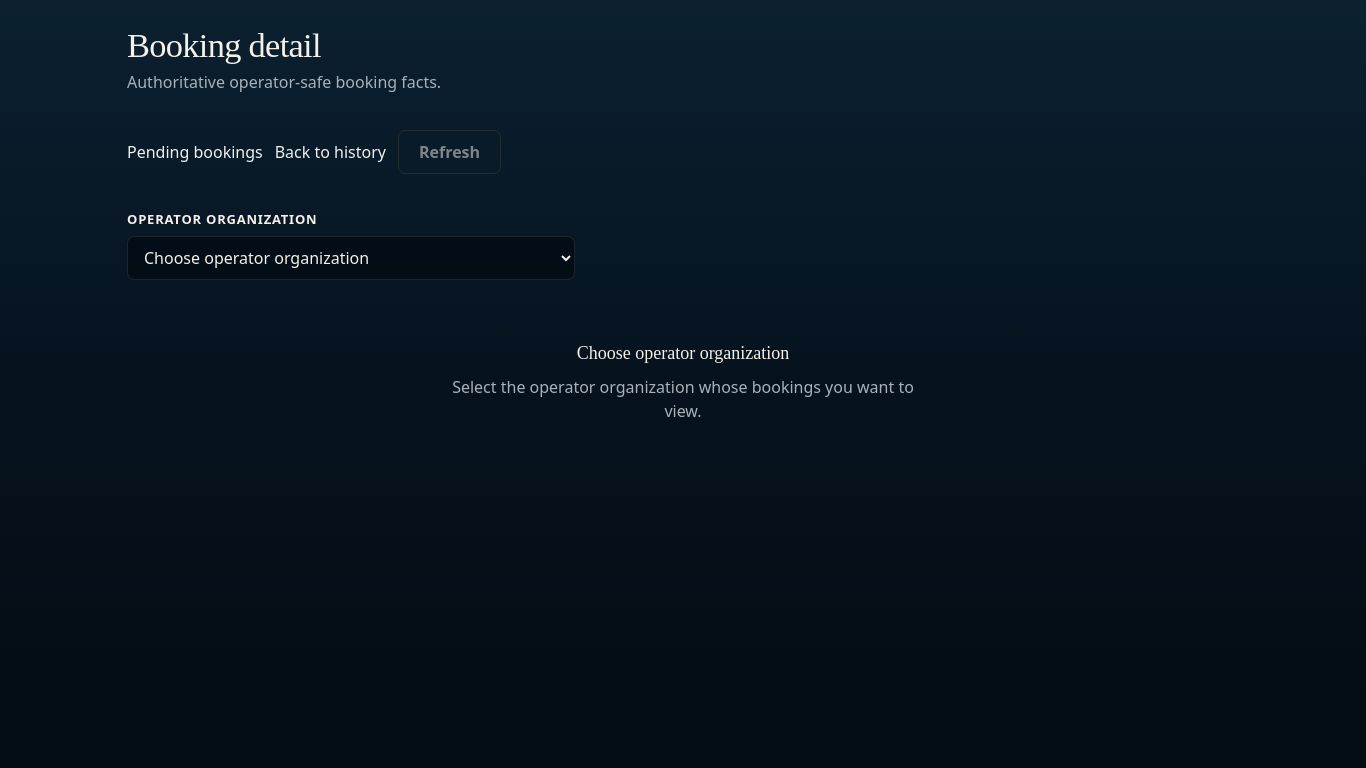
Scenario: OperatorBookingHistory › distinguishes old and new A detail epochs when abort is ignored
The width and height of the screenshot is (1366, 768).
Select "Operator organization 1 — OPERATOR_ADMIN" in the dropdown labelled "Operator organization" at (351, 258), box [127,236,575,280]
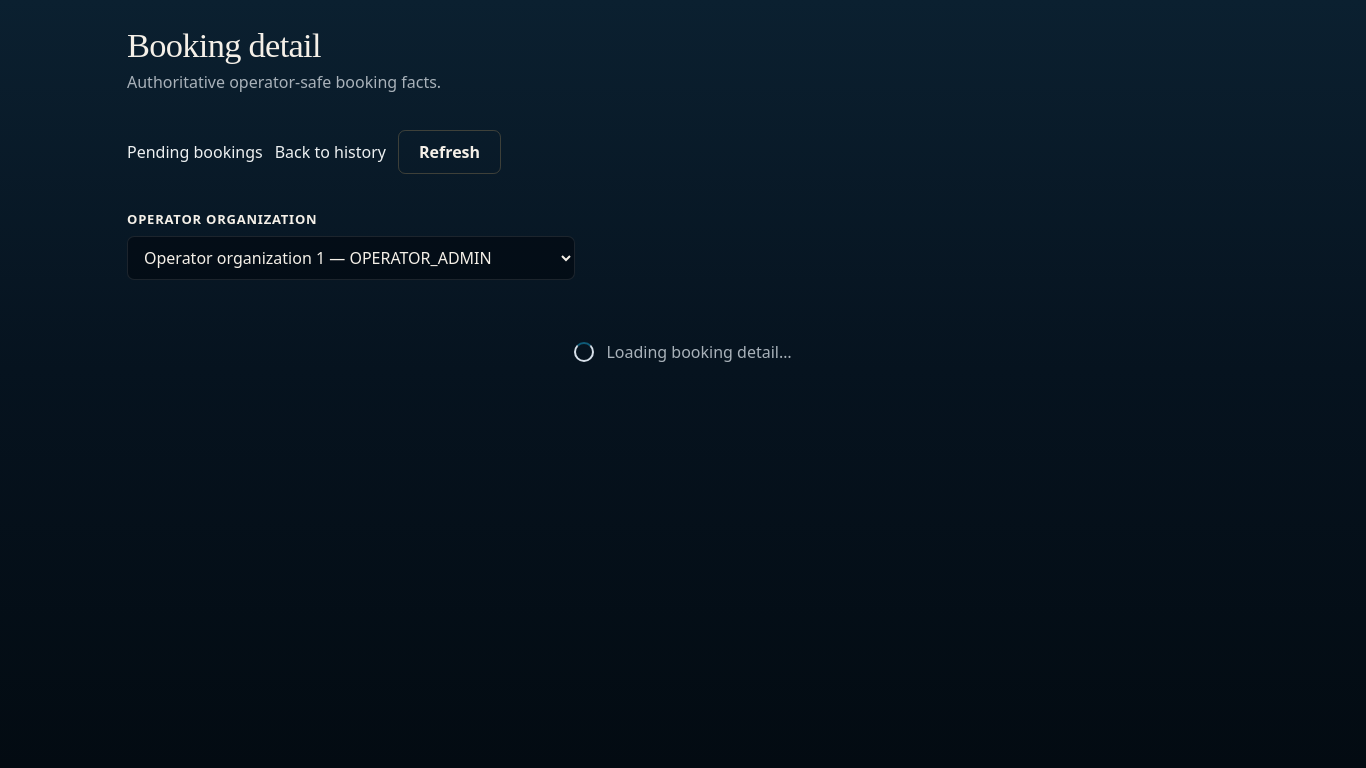
Select "Operator organization 2 — OPERATOR_FINANCE" in the dropdown labelled "Operator organization" at (351, 258), box [127,236,575,280]
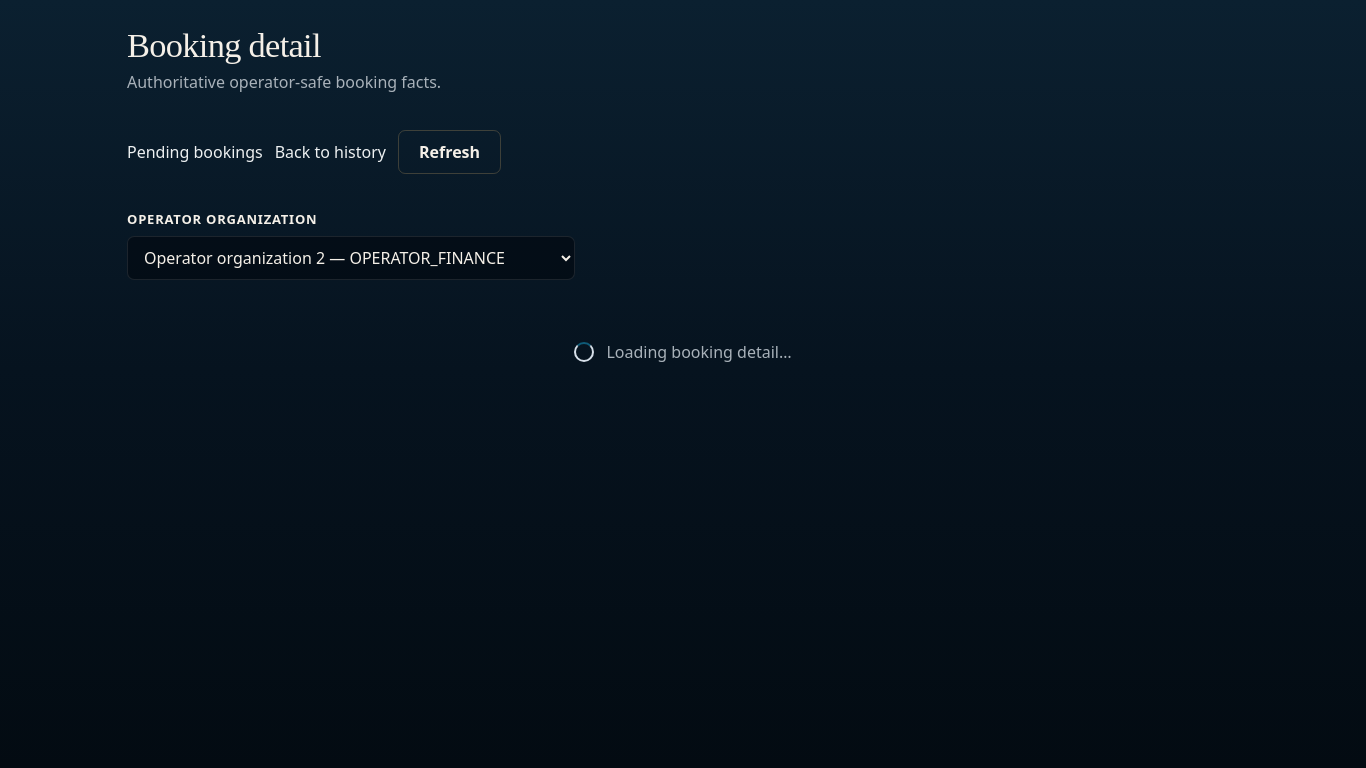
Select "Operator organization 1 — OPERATOR_ADMIN" in the dropdown labelled "Operator organization" at (351, 258), box [127,236,575,280]
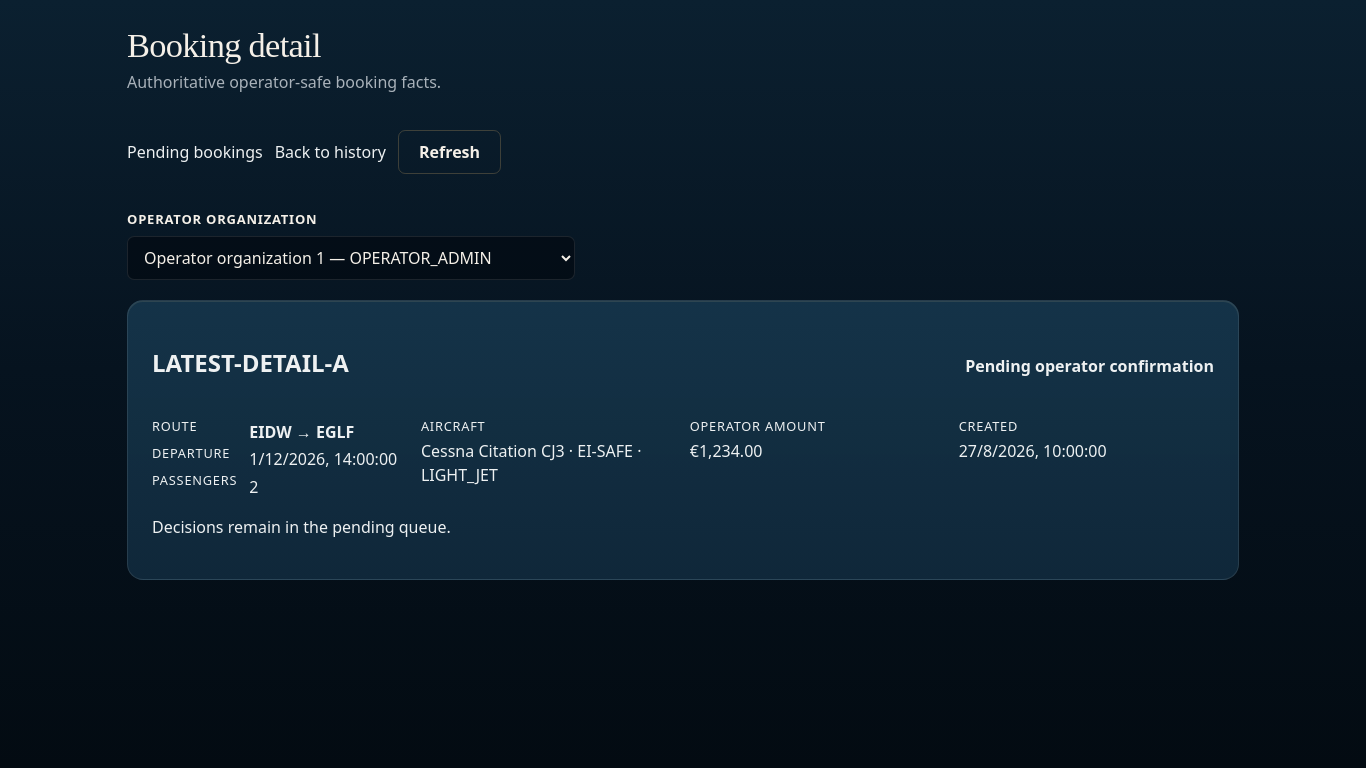
Result: the heading "LATEST-DETAIL-A" is shown at [152,345,349,381]
